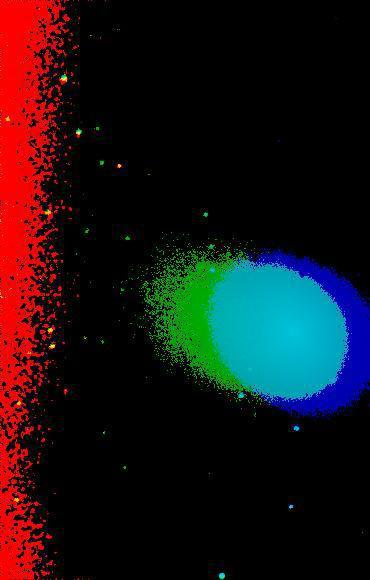star: (104, 150, 134, 180)
